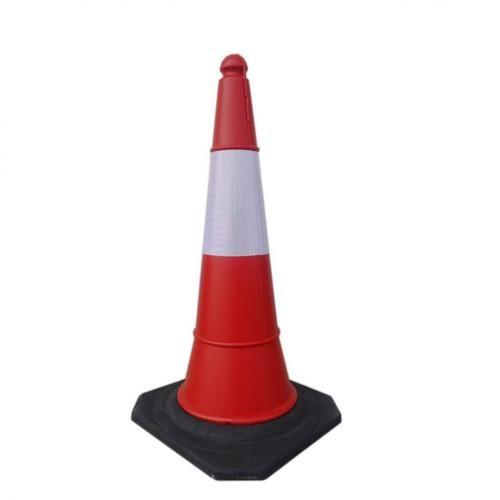cone_barrel: (157, 63, 309, 446)
